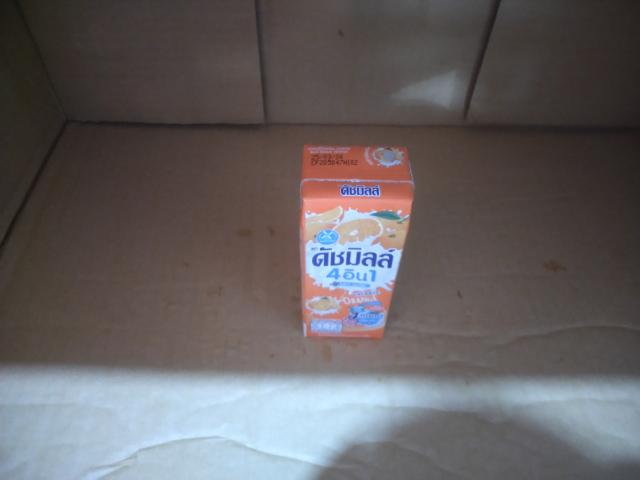drink_box: (278, 127, 434, 370)
